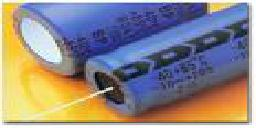Electrolytic-Capacitor: (84, 6, 256, 115)
